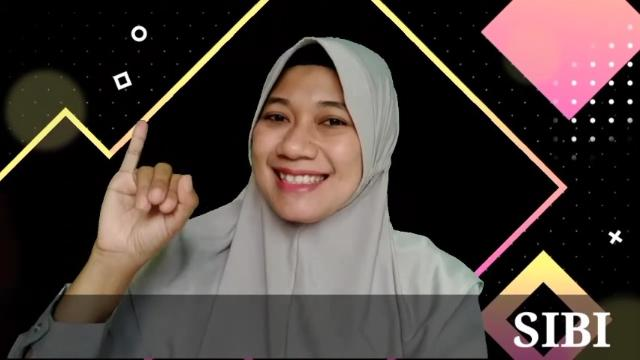I: (102, 120, 198, 258)
